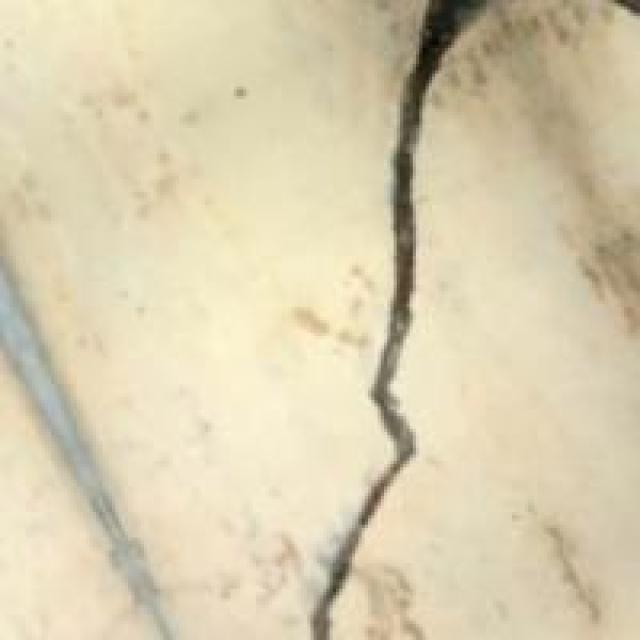crack: (282, 6, 528, 636)
